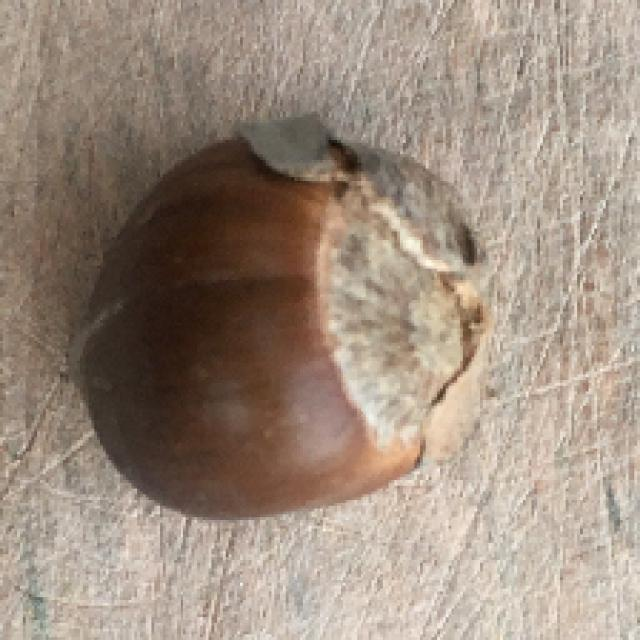DamagedHazelnut: (76, 114, 505, 522)
